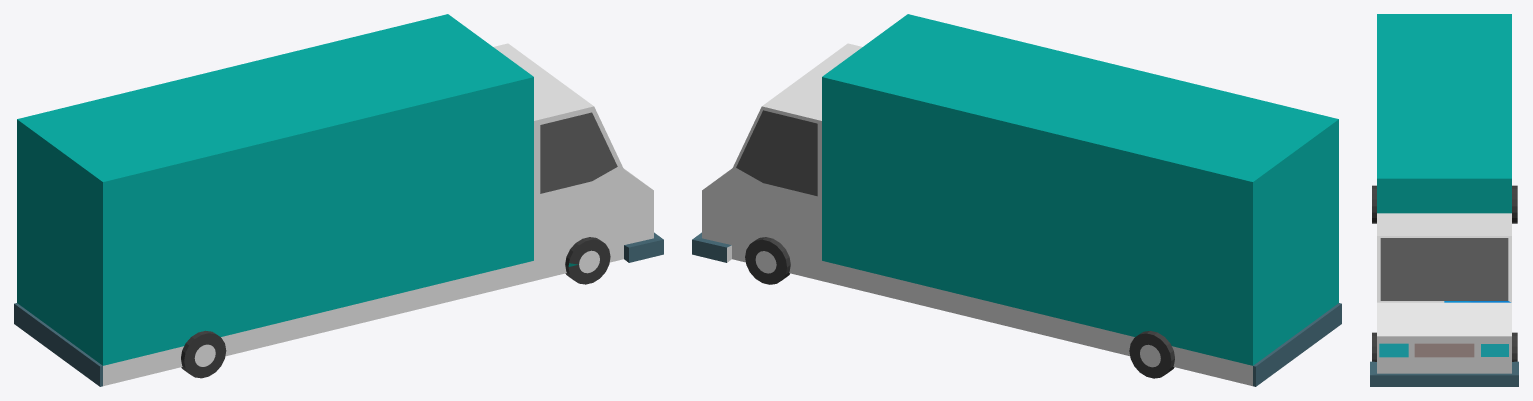
File: Kamionce3x1Tirkiz.fbx
3 views of the same model, side by side, from view 1: azimuth 30°, elevation 25°; view 2: azimuth 150°, elevation 25°; view 3: azimuth 270°, elevation 25° (orthographic). The views are drawn at different scales.
Parts seen in each view (by area): view 1: Car_08_4; view 2: Car_08_4; view 3: Car_08_4.
Boxes of the visible parts, box(x1,y1,x2,y2) form: Car_08_4: box(14, 14, 663, 386); Car_08_4: box(692, 14, 1341, 386); Car_08_4: box(1370, 14, 1518, 386).
Size of the model in its own units: 2.98 by 1.1 by 0.8755.
Materials: 1 (1 with a texture image).
